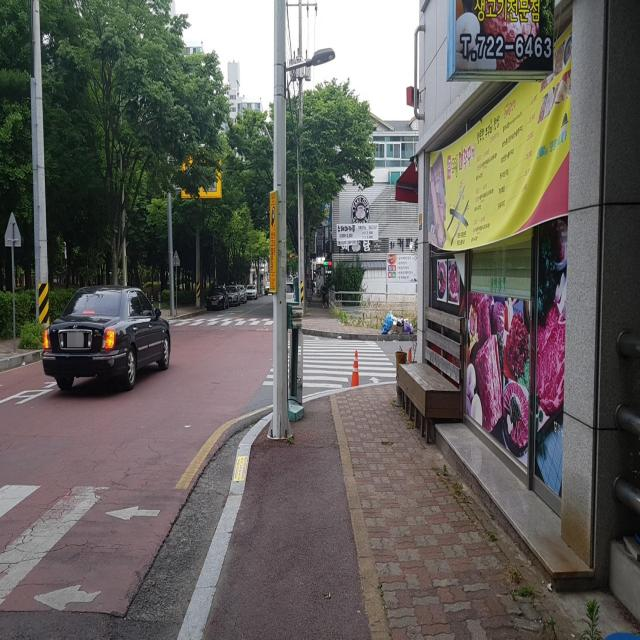횡단보도: (0, 482, 125, 623), (262, 335, 397, 390), (165, 316, 278, 332)
